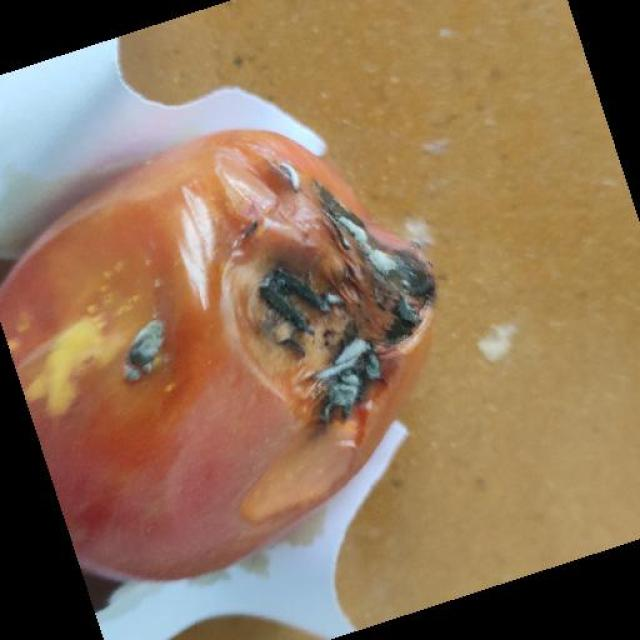Stale_tomato: (0, 102, 425, 587)
